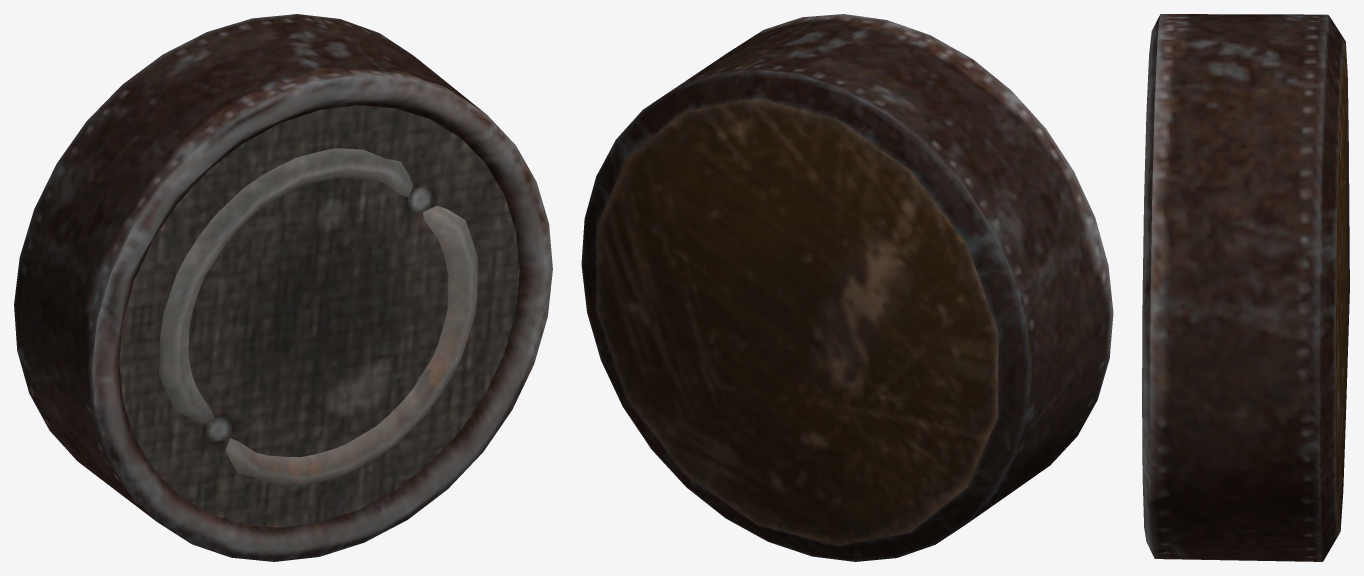
Rendered from cannon_wheel_front.glb.
3 views of the same model, side by side, from view 1: azimuth 30°, elevation 25°; view 2: azimuth 150°, elevation 25°; view 3: azimuth 270°, elevation 25° (orthographic). The views are drawn at different scales.
Parts seen in each view (by area): view 1: cannon_cannons_0.002; view 2: cannon_cannons_0.002; view 3: cannon_cannons_0.002.
Part boxes in pixels (x1,y1,x2,y2): cannon_cannons_0.002: (14,14,552,561); cannon_cannons_0.002: (581,14,1113,561); cannon_cannons_0.002: (1142,14,1349,561).
Size of the model in its own units: 0.7447 by 0.7405 by 0.2807.
Materials: 1 (1 with a texture image).
